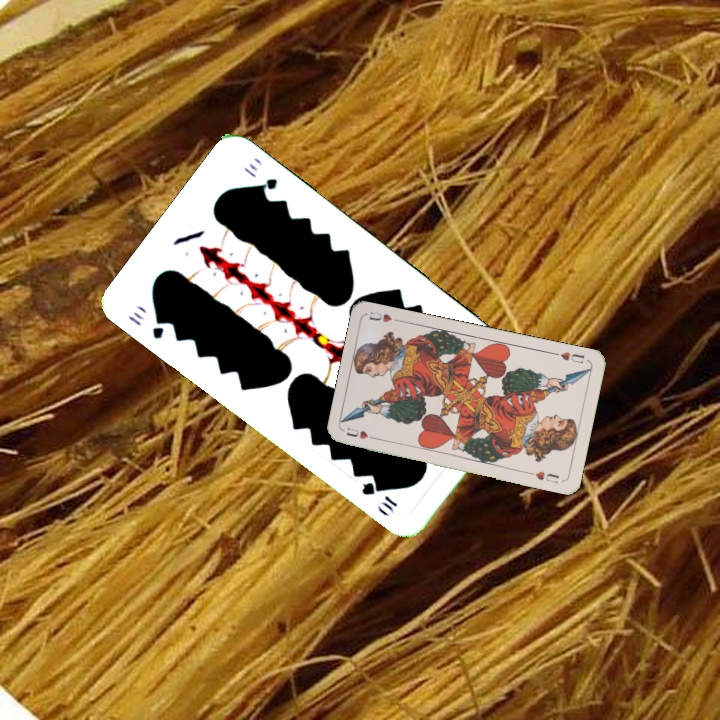G10: (124, 307, 169, 342)
HU: (342, 424, 381, 442), (550, 348, 587, 366)
